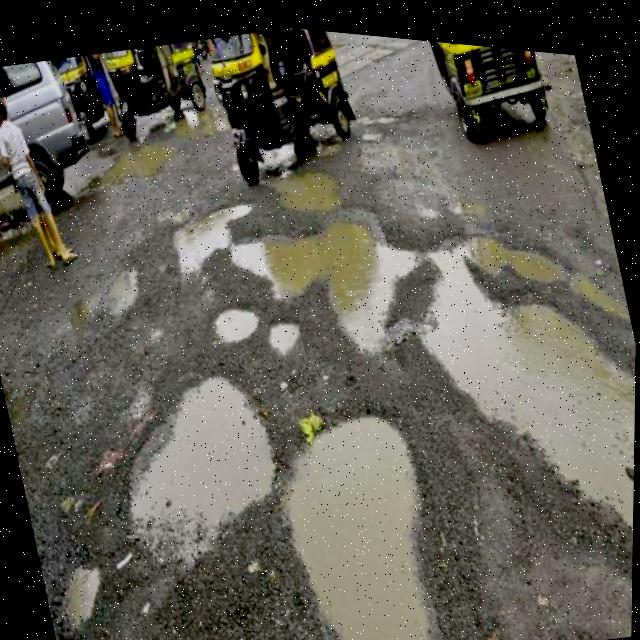Pothole: (389, 192, 638, 551), (245, 359, 474, 640), (80, 336, 300, 557), (225, 158, 429, 352), (66, 47, 291, 213), (30, 495, 131, 633), (150, 164, 268, 277), (232, 139, 339, 224), (237, 294, 320, 385), (194, 303, 263, 372)
